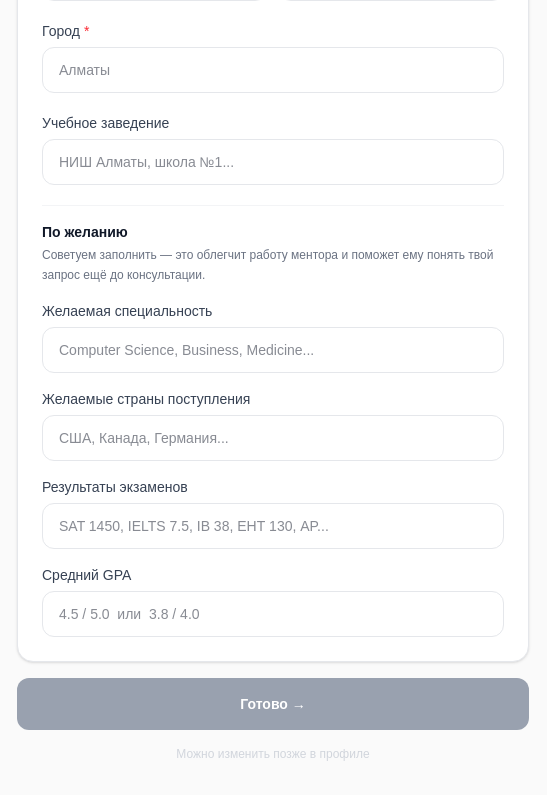
Test case: StudentOnboarding › disables Готово until the required fields are filled, and shows the missing-fields hint
(page scrolled)
Click the button "Готово →". click: {"x": 273, "y": 704}
box: [17,678,529,730]
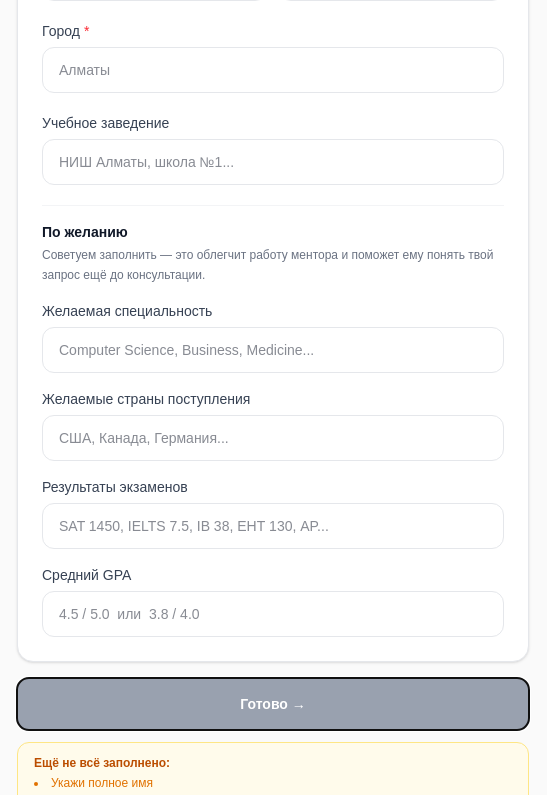
Expected: the text "Ещё не всё заполнено:" is shown, [34,756,170,770]
